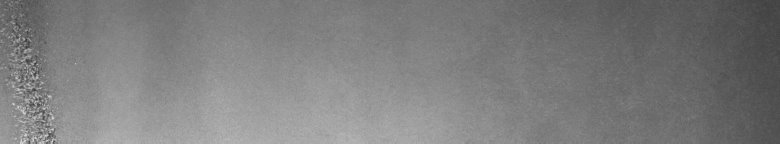hc: (4, 4, 59, 136)
